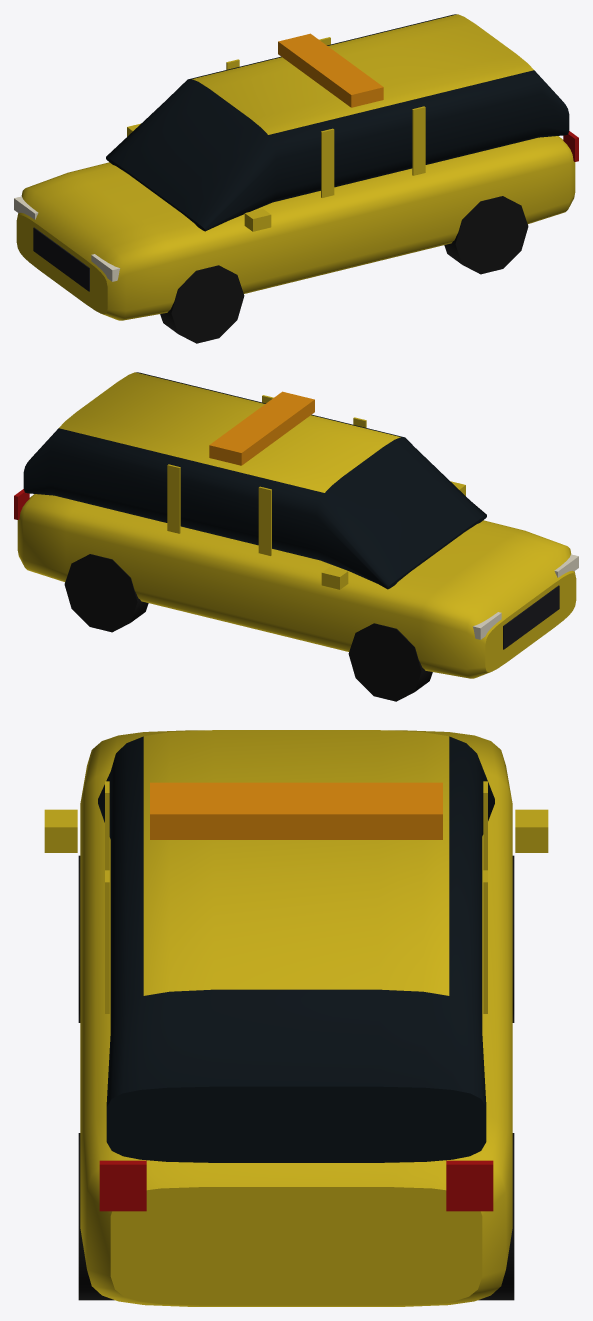
Rendered from car.glb.
The picture shows the model from 3 angles, top to bottom: view 1: azimuth 30°, elevation 25°; view 2: azimuth 150°, elevation 25°; view 3: azimuth 270°, elevation 25°; orthographic projection. The views are drawn at different scales.
Visible parts, largest first — view 1: car; view 2: car; view 3: car.
Boxes of the visible parts, bbox=[...] form: car: bbox=[14, 14, 578, 343]; car: bbox=[14, 372, 578, 701]; car: bbox=[44, 730, 548, 1306].
Bounding box in the file's own units: 4.62 × 1.82 × 2.15.
